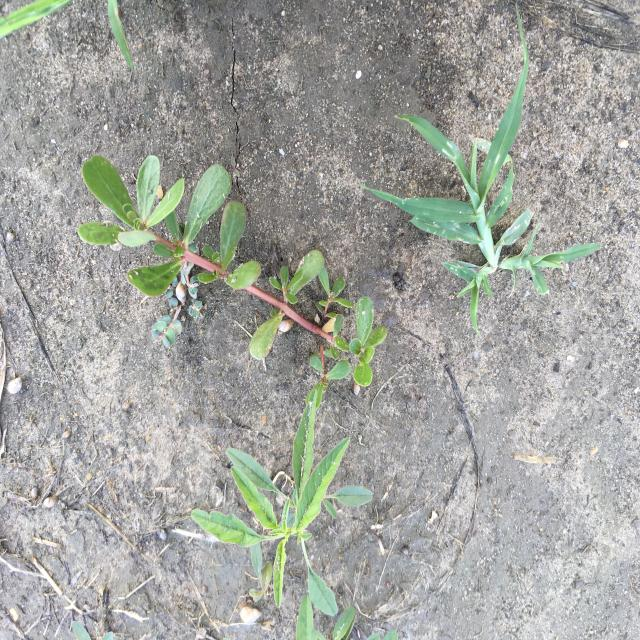Goosegrass: (358, 2, 604, 343)
Purslane: (76, 153, 388, 414)
Waterhemp: (189, 386, 374, 618)
